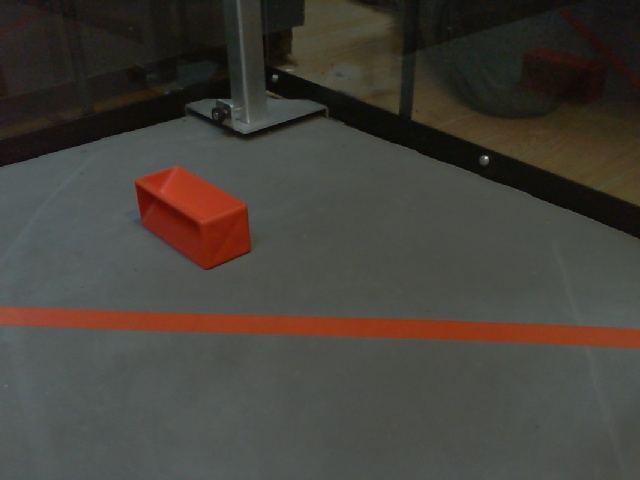RedSample: (130, 162, 252, 269)
